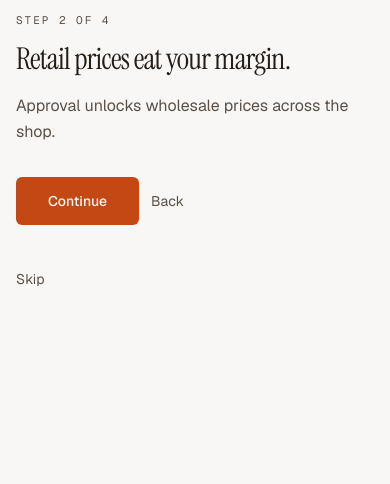
Test: Onboarding insight + personalization (slice 02 contract) › result screen routes wholesaler to /wholesale and persists answers
The image size is (390, 484).
Step 1. Click the button "Continue" → (78, 200), box [16,176,139,224]
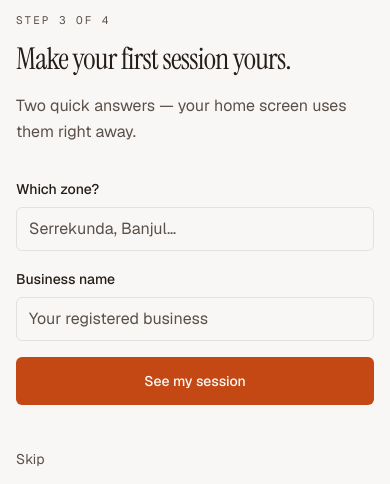
Step 2. Type "Serrekunda" into the field labelled "Which zone?" → (195, 228), box [16,206,374,250]
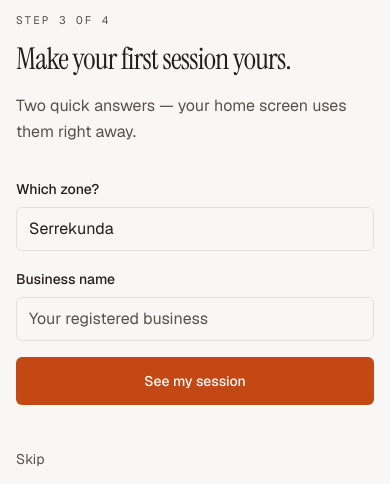
Step 3. Type "Test detail" into the field labelled "Business name" → (195, 318), box [16,296,374,340]
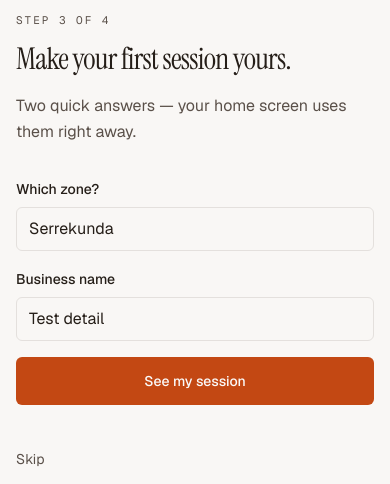
Step 4. Click the button "See my session" → (195, 380), box [16,356,374,404]
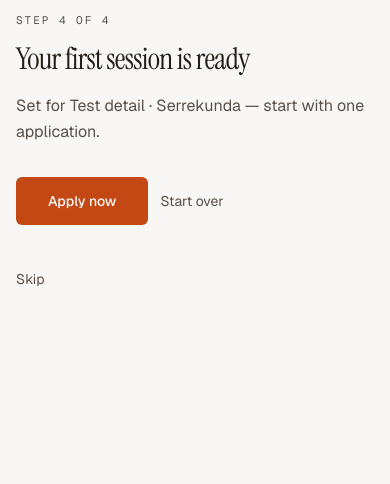
Expected: the heading "Your first session is ready" is shown, [16,38,250,78]
